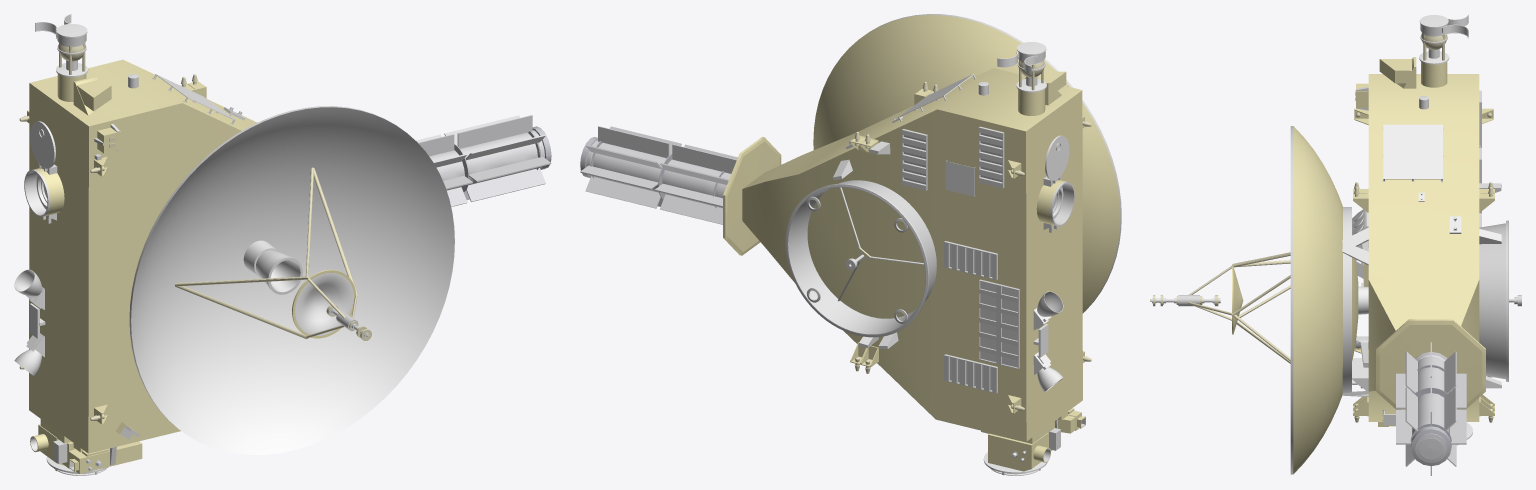
The model's file is new_horizons_dds.glb.
3 renders of one model, left to right at view 1: azimuth 30°, elevation 25°; view 2: azimuth 150°, elevation 25°; view 3: azimuth 270°, elevation 25°, orthographic. The views are drawn at different scales.
Visible parts, largest first — view 1: new_horizons_dds; view 2: new_horizons_dds; view 3: new_horizons_dds.
Boxes of the visible parts, bbox=[...] form: new_horizons_dds: bbox=[14, 14, 551, 475]; new_horizons_dds: bbox=[580, 14, 1121, 475]; new_horizons_dds: bbox=[1150, 14, 1521, 475].
Bounding box in the file's own units: 11.05 × 9.06 × 7.44.
